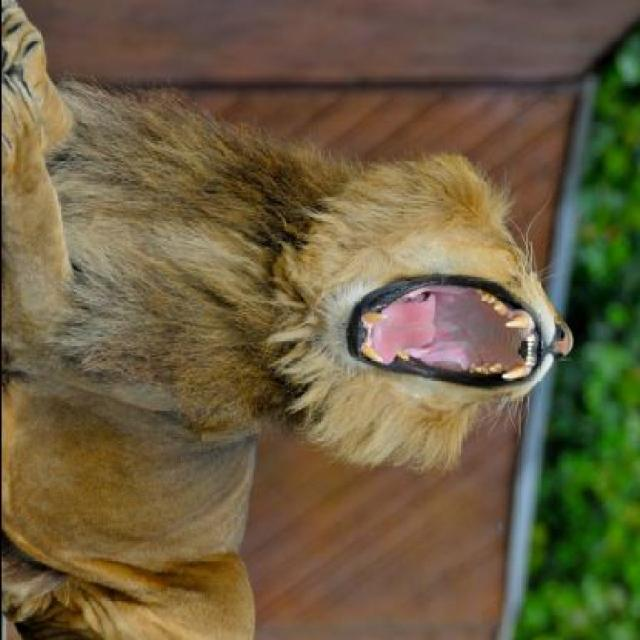Lion: (1, 20, 577, 638)
